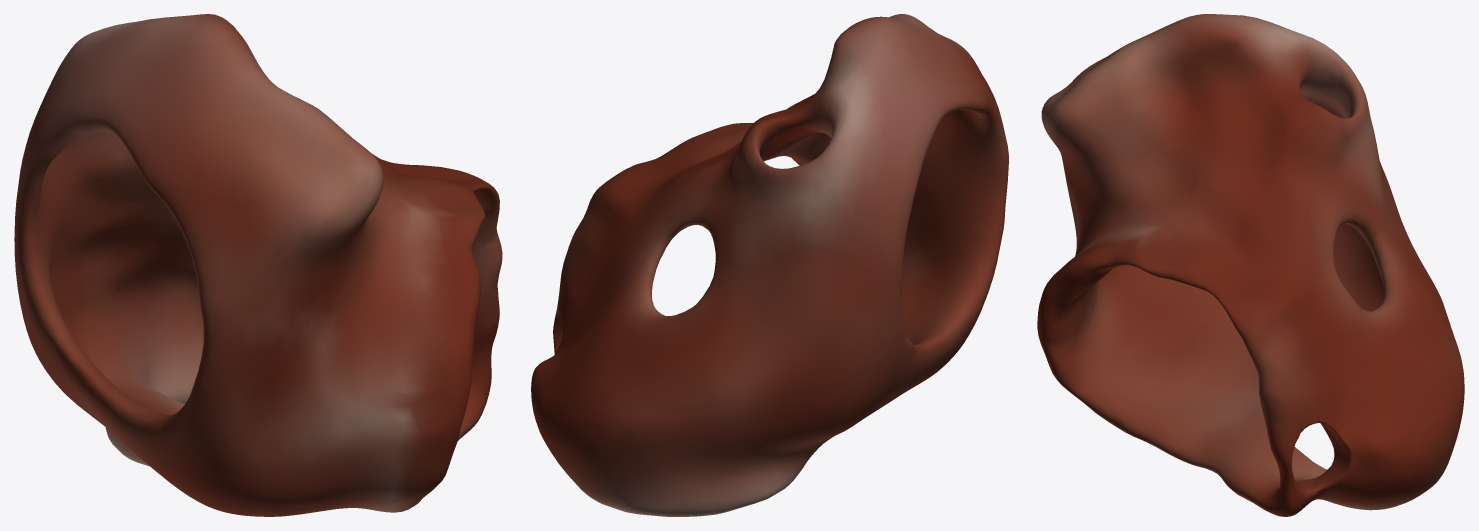
The model's file is AtrioDireito.fbx.
3 views of the same model, side by side, from view 1: azimuth 30°, elevation 25°; view 2: azimuth 150°, elevation 25°; view 3: azimuth 270°, elevation 25° (orthographic). The views are drawn at different scales.
Visible parts, largest first — view 1: rechter_atrium; view 2: rechter_atrium; view 3: rechter_atrium.
Boxes of the visible parts, x1,y1,x2,y2 form: rechter_atrium: (14,14,502,516); rechter_atrium: (531,14,1008,516); rechter_atrium: (1037,14,1464,516).
Size of the model in its own units: 0.5894 by 0.679 by 0.6409.
